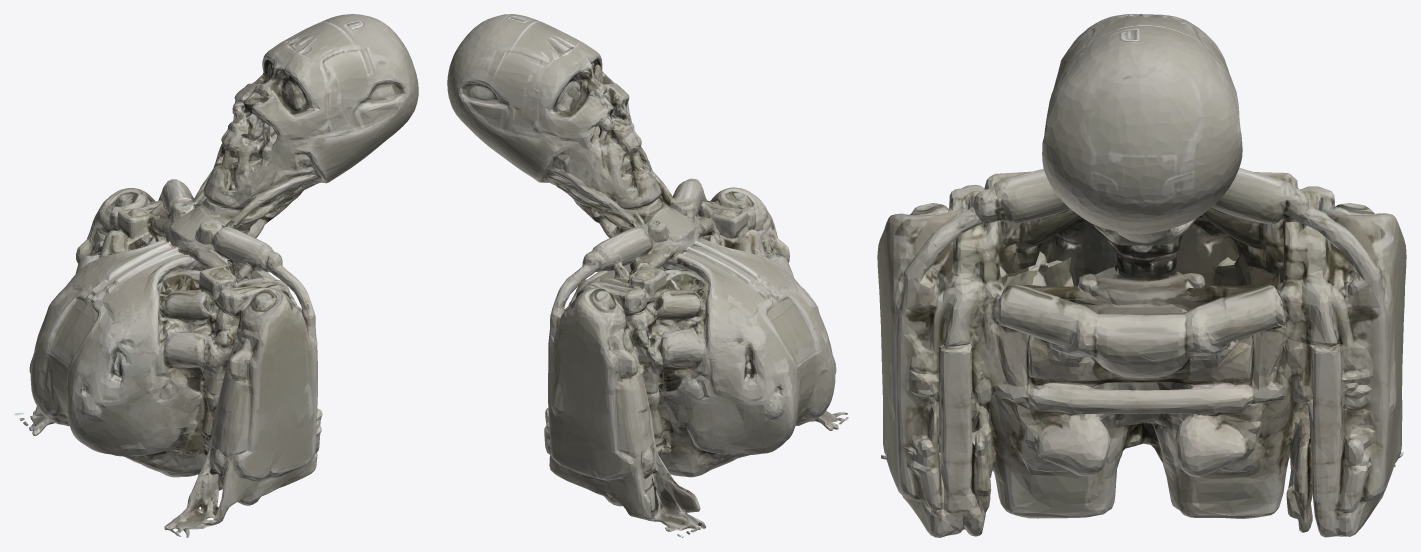
Rendered from terminator-bust.glb.
The picture shows the model from 3 angles, left to right: view 1: azimuth 30°, elevation 25°; view 2: azimuth 150°, elevation 25°; view 3: azimuth 270°, elevation 25°; orthographic projection. The views are drawn at different scales.
Parts seen in each view (by area): view 1: terminator bust_textured.obj; view 2: terminator bust_textured.obj; view 3: terminator bust_textured.obj.
Part boxes in pixels (x1,y1,x2,y2): terminator bust_textured.obj: [14, 14, 418, 537]; terminator bust_textured.obj: [447, 14, 848, 537]; terminator bust_textured.obj: [877, 14, 1406, 537].
Size of the model in its own units: 1.4 by 1.5 by 1.16.
Materials: 1 (1 with a texture image).
